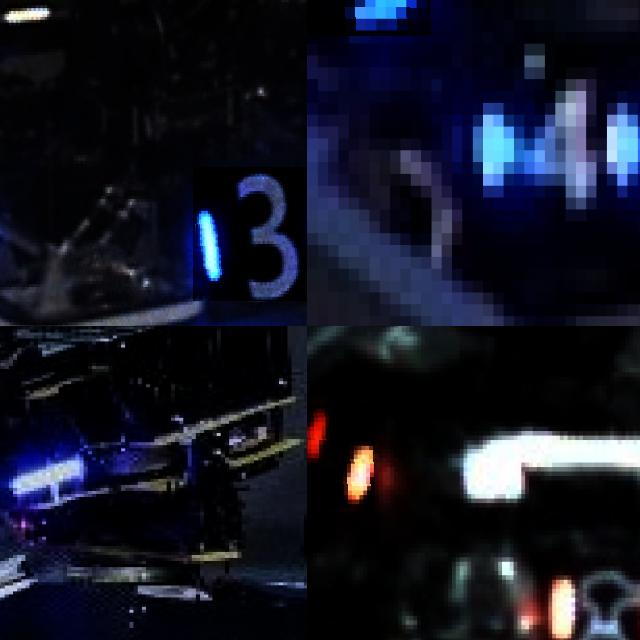B3: (192, 166, 307, 301)
B4: (426, 55, 640, 233)
Rs: (307, 404, 375, 507), (552, 566, 640, 640)
